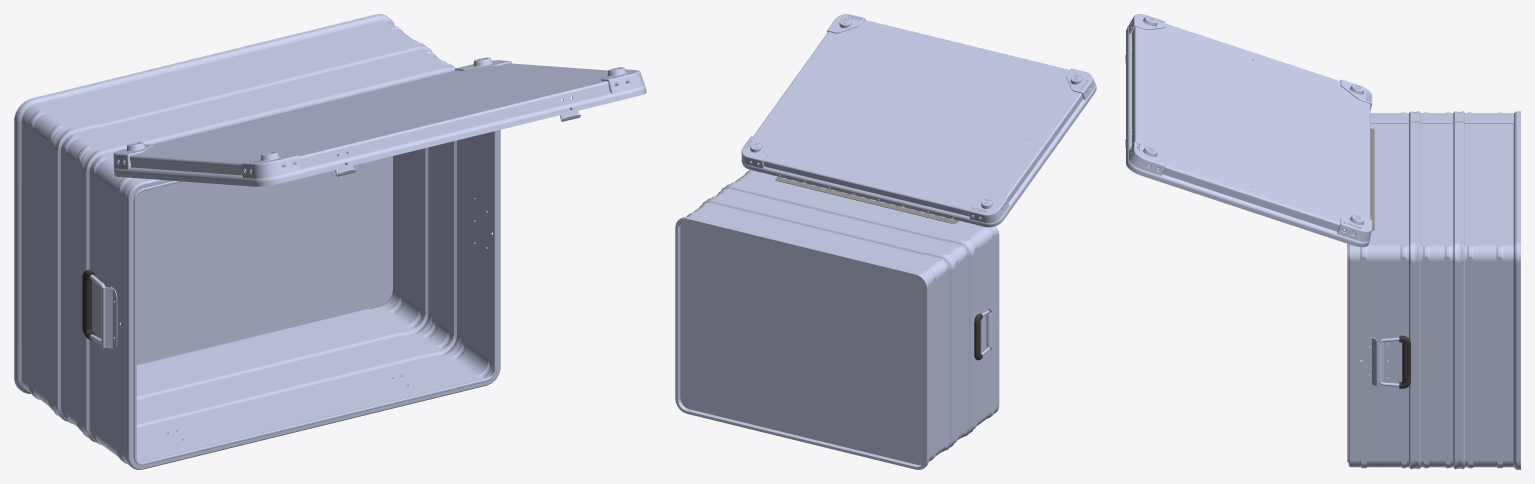
File: case1.obj
3 views of the same model, side by side, from view 1: azimuth 30°, elevation 25°; view 2: azimuth 150°, elevation 25°; view 3: azimuth 270°, elevation 25° (orthographic). The views are drawn at different scales.
Visible parts, largest first — view 1: Volumenkörper6, Volumenkörper2:1; view 2: Volumenkörper6, Volumenkörper2:1; view 3: Volumenkörper6, Volumenkörper2:1.
Part boxes in pixels (<box>): Volumenkörper6: <box>14,14,500,469</box>; Volumenkörper2:1: <box>113,57,646,186</box>; Volumenkörper6: <box>675,170,999,469</box>; Volumenkörper2:1: <box>741,14,1096,227</box>; Volumenkörper6: <box>1347,111,1520,469</box>; Volumenkörper2:1: <box>1125,14,1372,247</box>.
Bounding box in the file's own units: 788 × 813 × 899.
